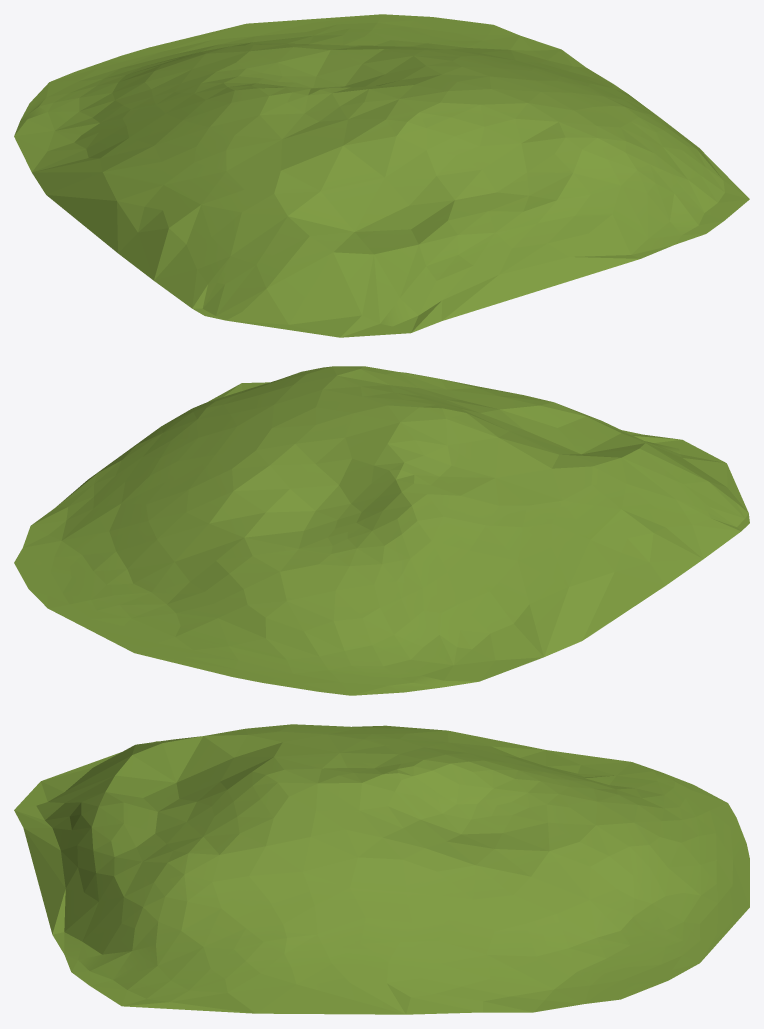
The model's file is Mesh_Landscape_Hill_04.FBX.
3 views of the same model, one above another, from view 1: azimuth 30°, elevation 25°; view 2: azimuth 150°, elevation 25°; view 3: azimuth 270°, elevation 25° (orthographic). The views are drawn at different scales.
Visible parts, largest first — view 1: Mesh_Landscape_Hill_04; view 2: Mesh_Landscape_Hill_04; view 3: Mesh_Landscape_Hill_04.
Boxes of the visible parts, left/top/right/bottom form: Mesh_Landscape_Hill_04: left=14, top=14, right=749, bottom=337; Mesh_Landscape_Hill_04: left=14, top=366, right=749, bottom=695; Mesh_Landscape_Hill_04: left=14, top=724, right=749, bottom=1014.
Size of the model in its own units: 1917 by 2174 by 313.
